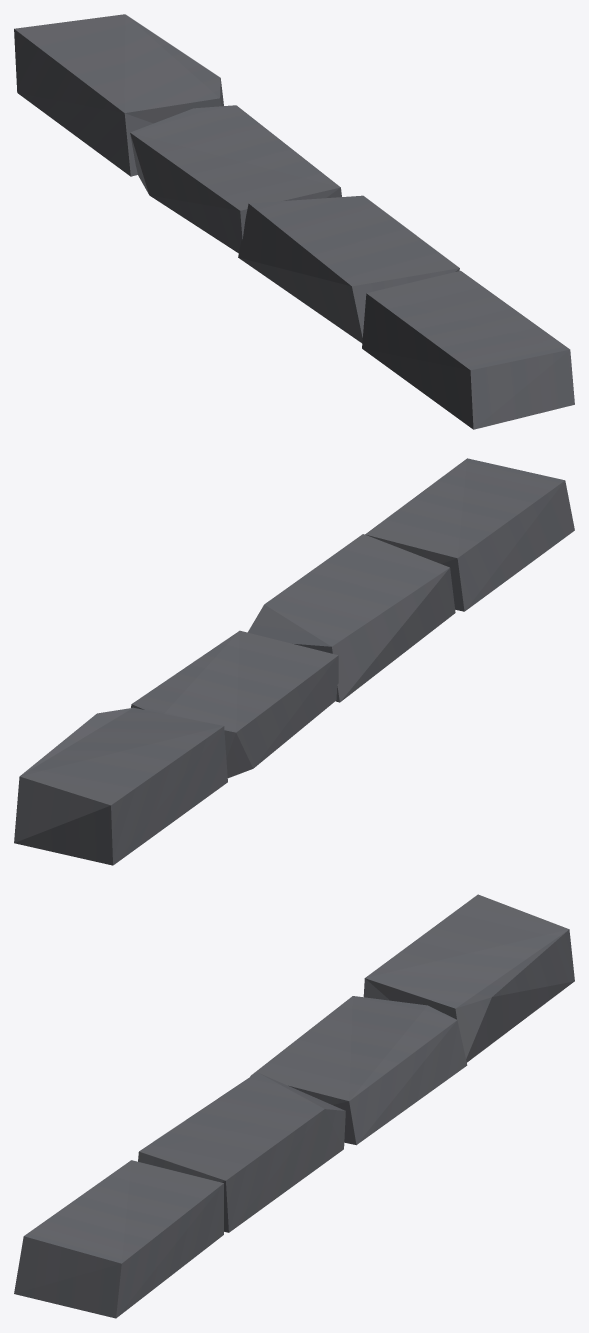
File: Road_1B_LOD1.fbx
3 renders of one model, top to bottom at view 1: azimuth 30°, elevation 25°; view 2: azimuth 150°, elevation 25°; view 3: azimuth 330°, elevation 25°, orthographic.
Parts seen in each view (by area): view 1: polySurface10311; view 2: polySurface10311; view 3: polySurface10311.
Boxes of the visible parts, x1,y1,x2,y2 form: polySurface10311: (14,14,574,429); polySurface10311: (14,458,574,865); polySurface10311: (14,894,574,1318).
Bounding box in the file's own units: 57.48 × 30.66 × 400.
